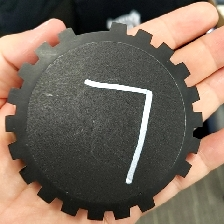gear: (3, 21, 204, 222)
missing: (137, 157, 193, 214), (56, 23, 129, 46)
